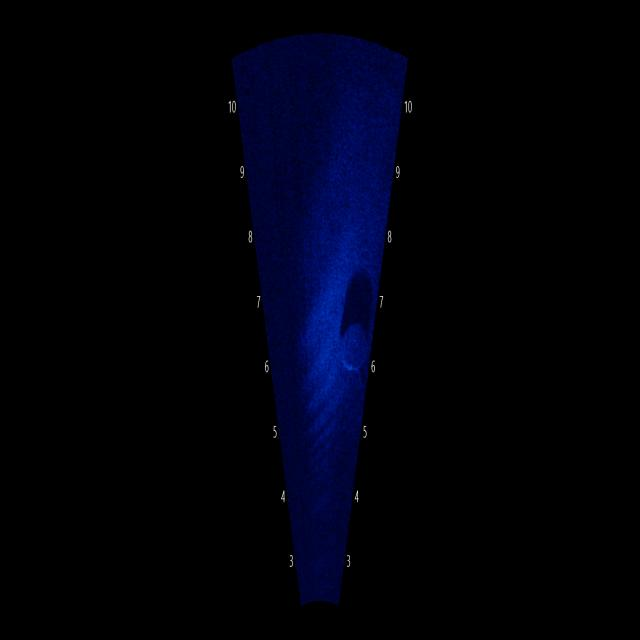circle: (332, 299, 378, 399)
